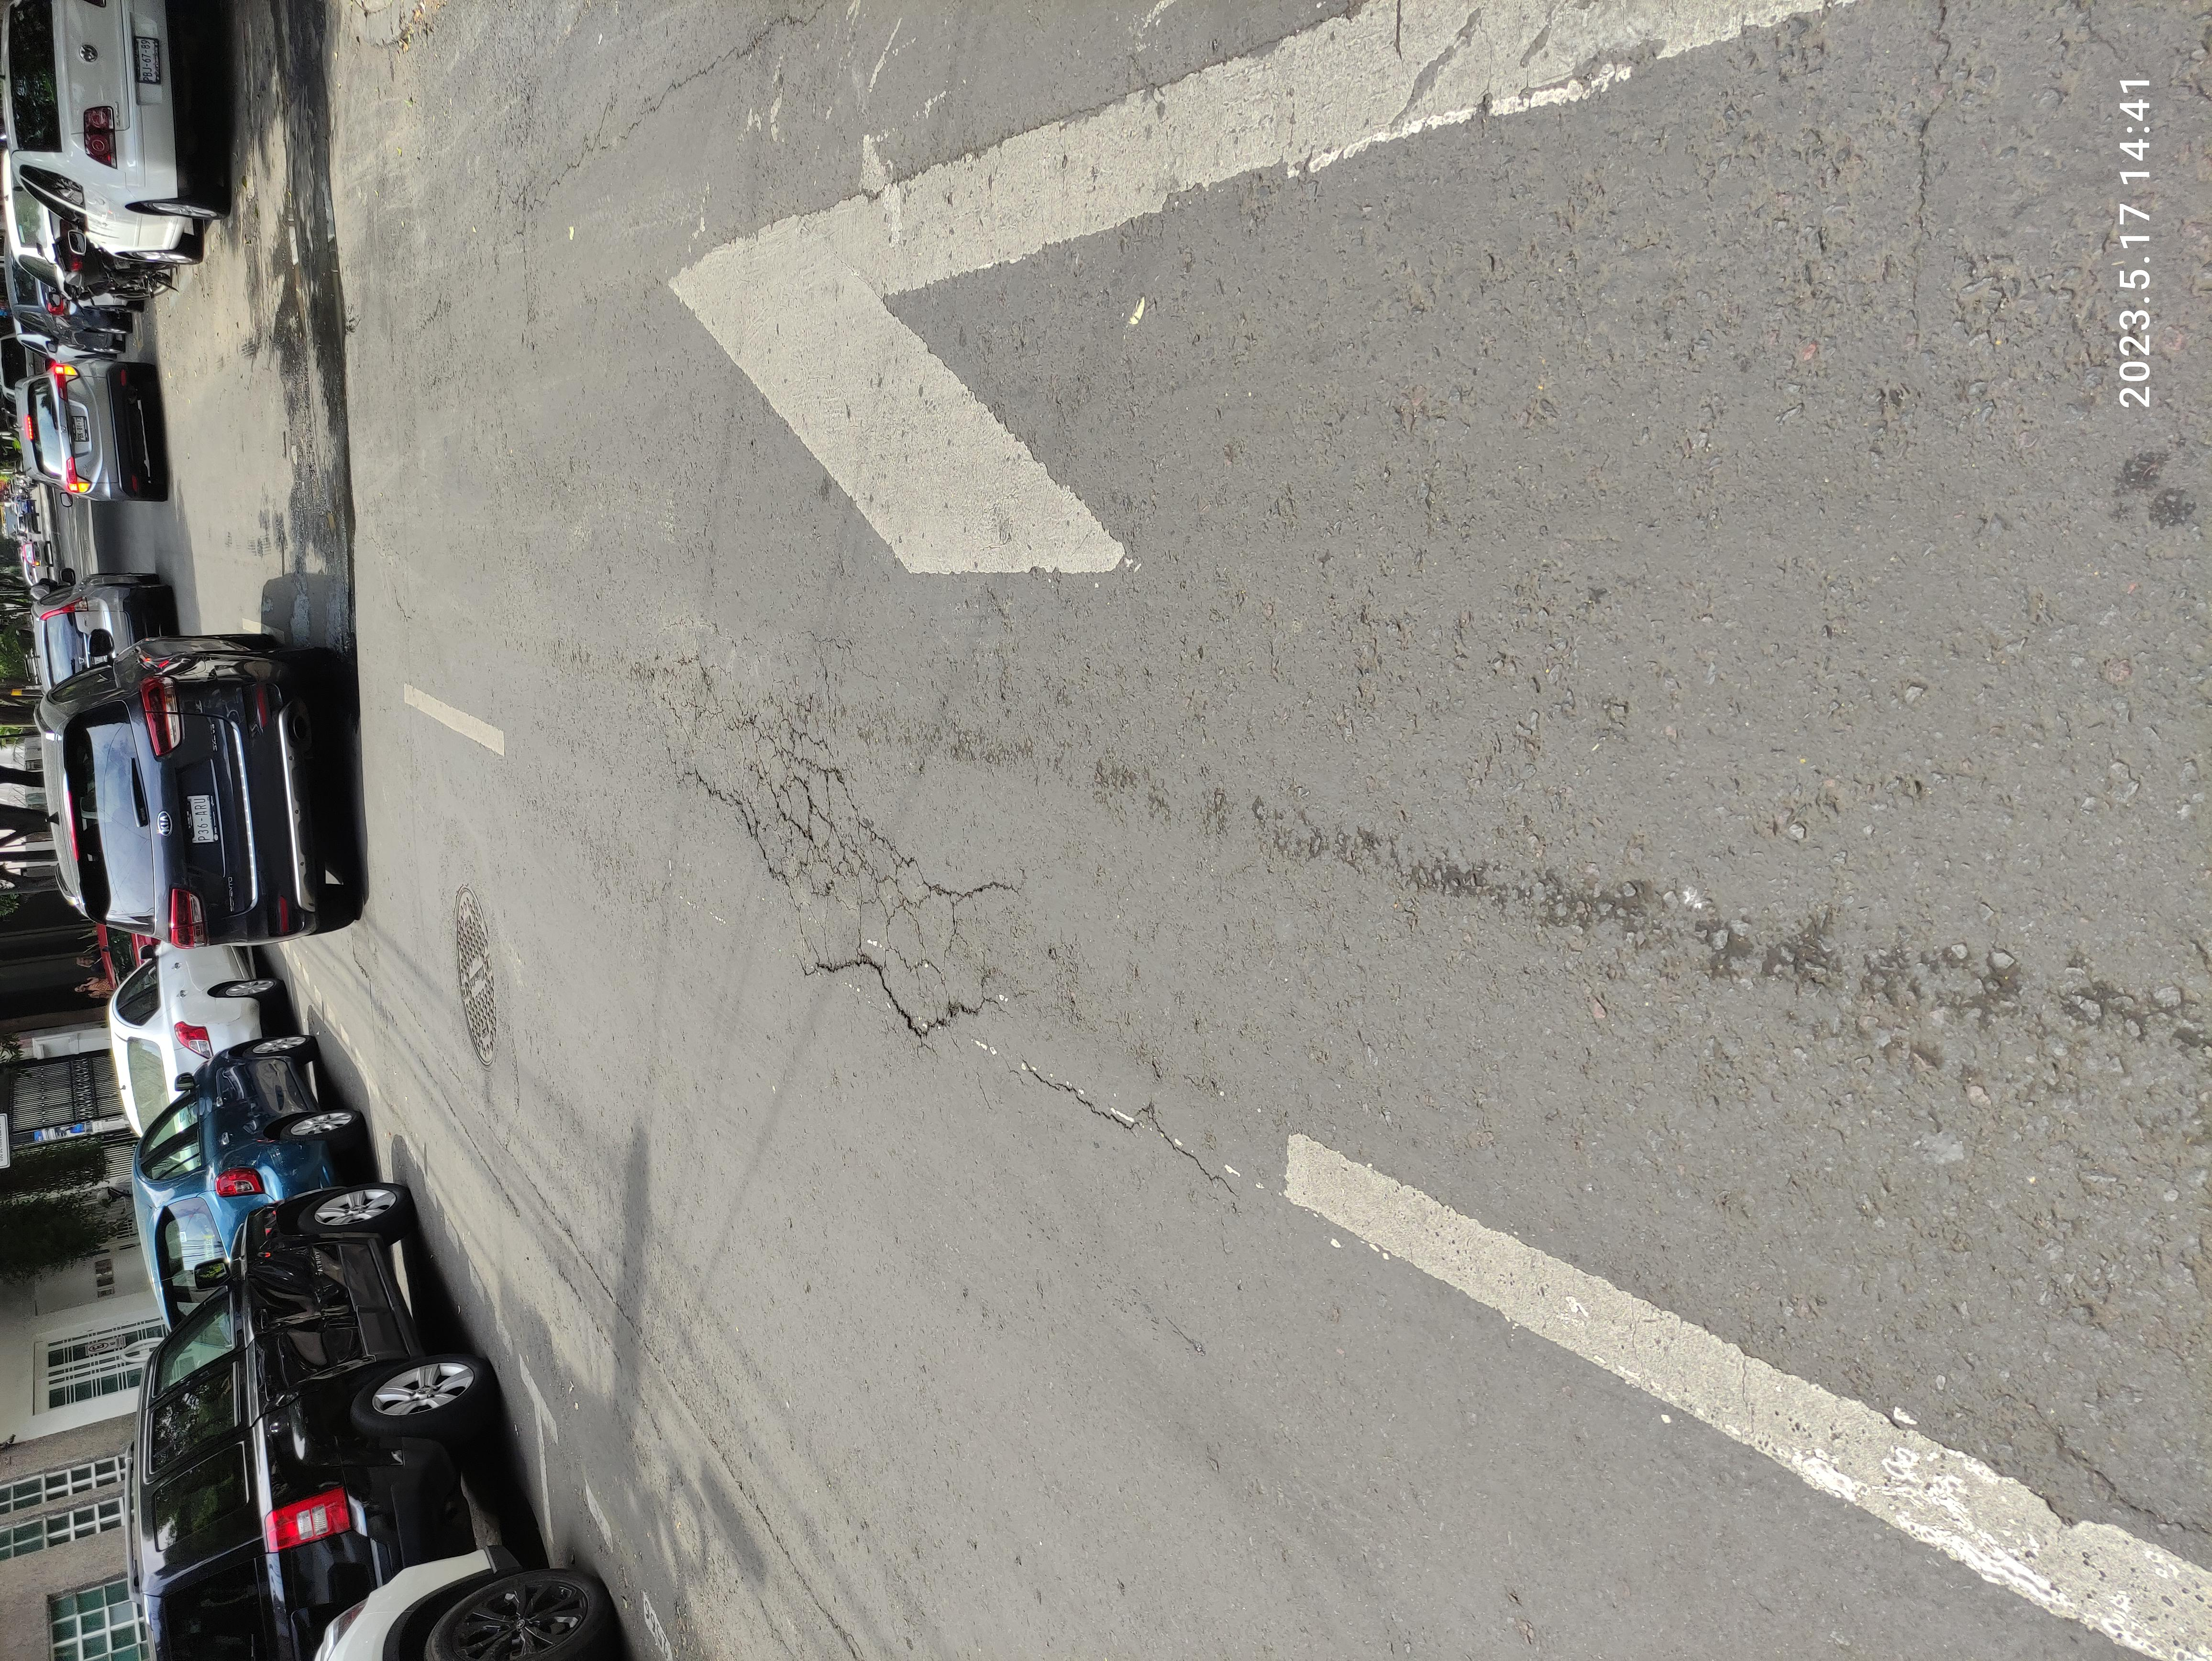alligator-crack: (832, 429, 1361, 794)
pothole: (787, 328, 1045, 377)
